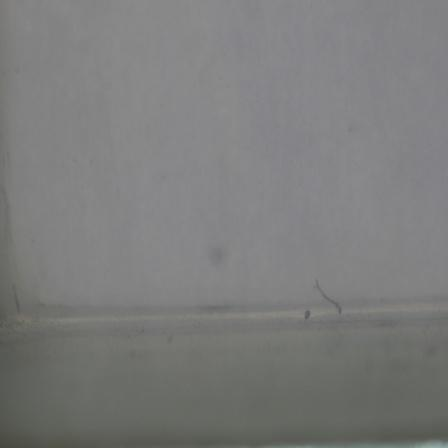Jentik-Nyamuk: (313, 269, 347, 314)
